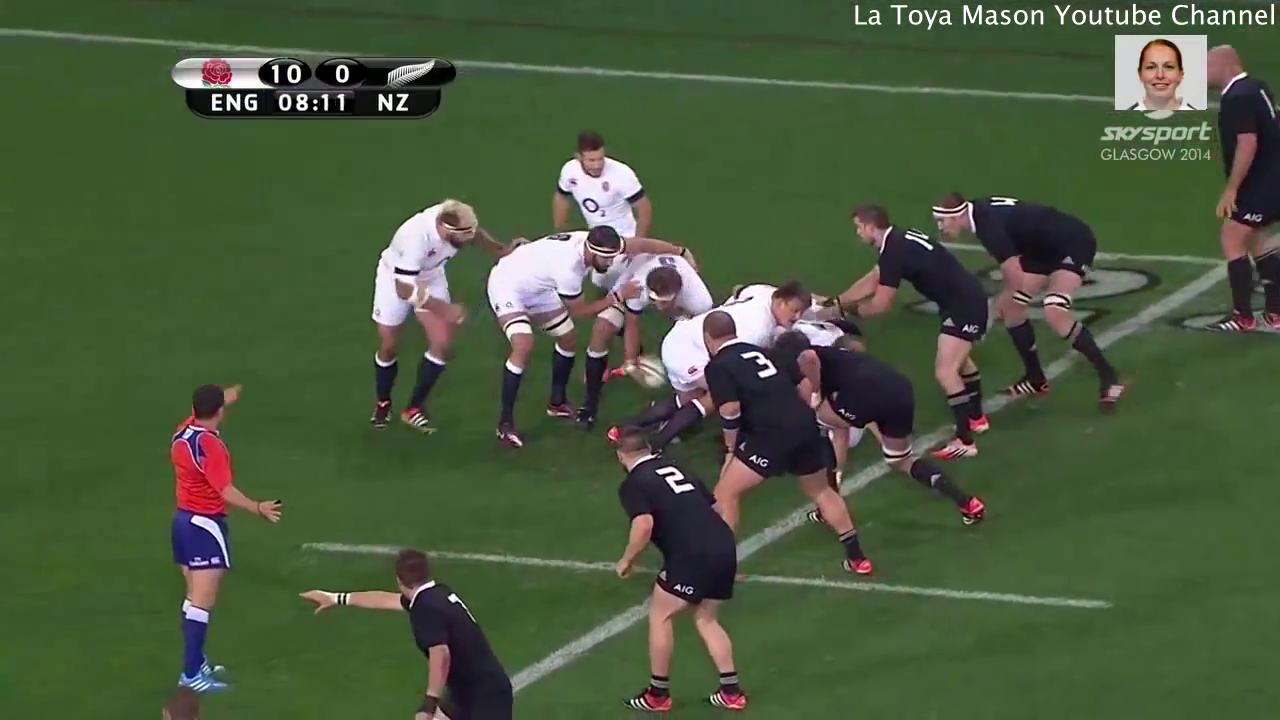ball: (612, 337, 689, 394)
player: (688, 307, 881, 583), (825, 191, 1001, 489), (593, 419, 761, 720), (767, 316, 997, 528), (929, 188, 1137, 415), (296, 545, 534, 720), (604, 262, 811, 462), (163, 369, 289, 697), (353, 185, 505, 452), (479, 208, 626, 459), (576, 218, 716, 425), (1200, 36, 1280, 340), (536, 114, 662, 245)
